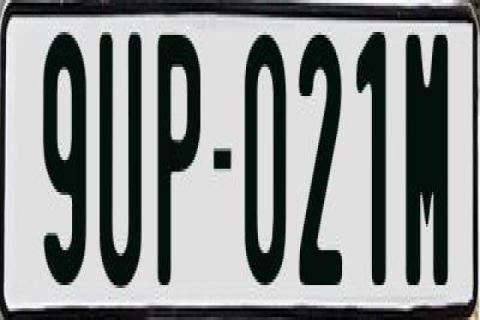0: (43, 26, 94, 294), (296, 35, 340, 299), (244, 29, 286, 279), (356, 24, 387, 282)
M: (404, 32, 452, 300)
P: (156, 32, 200, 300)
U: (98, 27, 146, 286)
